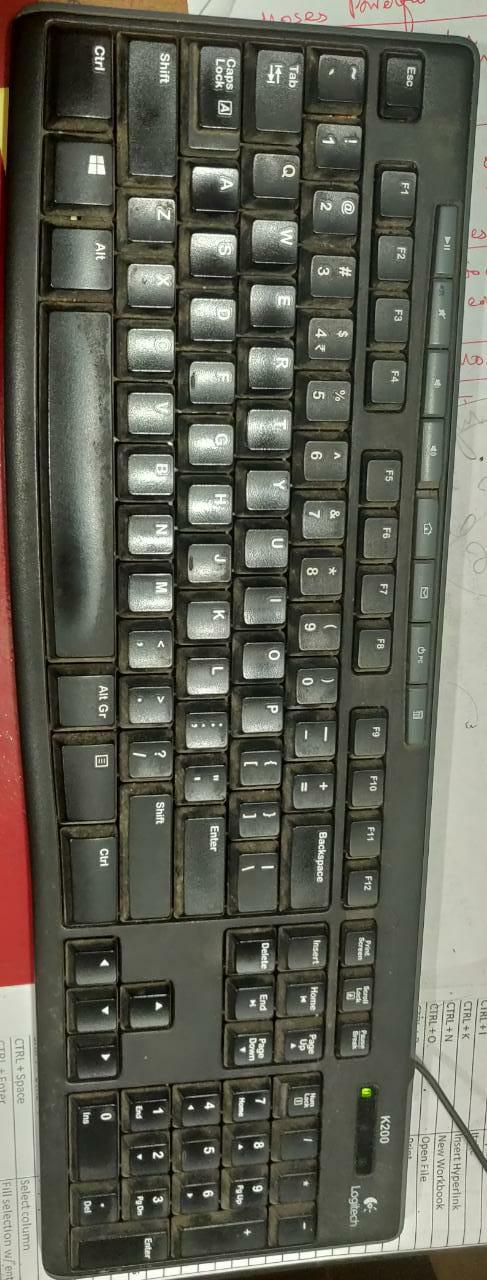keyboard: (5, 1, 485, 1280)
